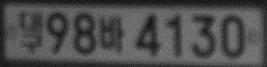0: (219, 13, 247, 60)
1: (163, 14, 188, 57)
3: (190, 14, 216, 58)
4: (134, 13, 162, 58)
8: (71, 12, 97, 56)
9: (45, 11, 70, 55)
대구_V: (17, 11, 44, 54)
바: (99, 15, 125, 53)
